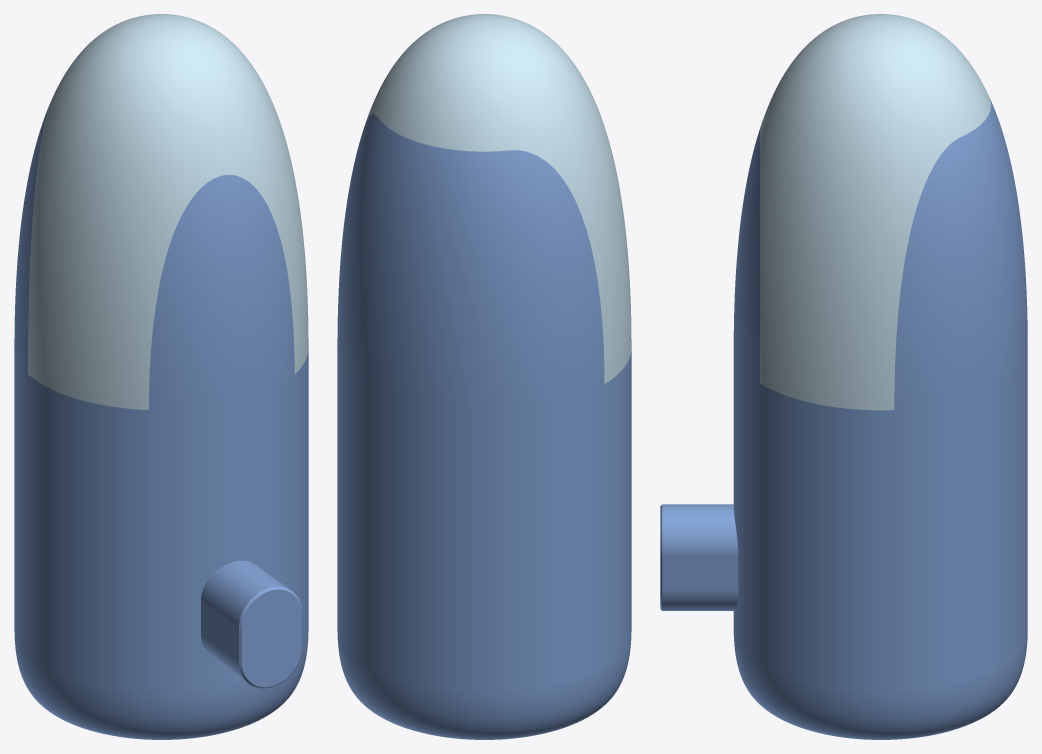
The model's file is Assembly 1.gltf.
3 views of the same model, side by side, from view 1: azimuth 30°, elevation 25°; view 2: azimuth 150°, elevation 25°; view 3: azimuth 270°, elevation 25° (orthographic).
Parts seen in each view (by area): view 1: Shell, Front Window; view 2: Shell, Front Window; view 3: Shell, Front Window.
Part boxes in pixels (<box>): Shell: <box>14,103,308,739</box>; Front Window: <box>28,14,308,409</box>; Shell: <box>337,114,631,739</box>; Front Window: <box>366,14,631,383</box>; Shell: <box>660,99,1027,739</box>; Front Window: <box>760,14,990,410</box>.
Bounding box in the file's own units: 4 × 10 × 5.
